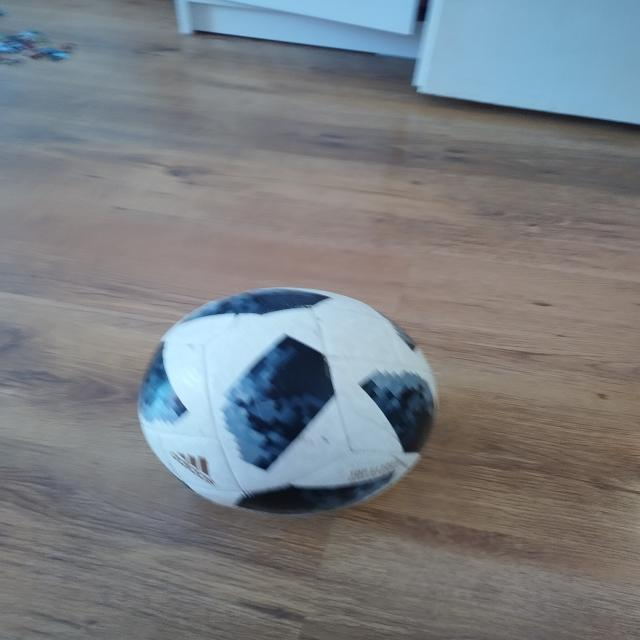nozna: (141, 288, 439, 513)
